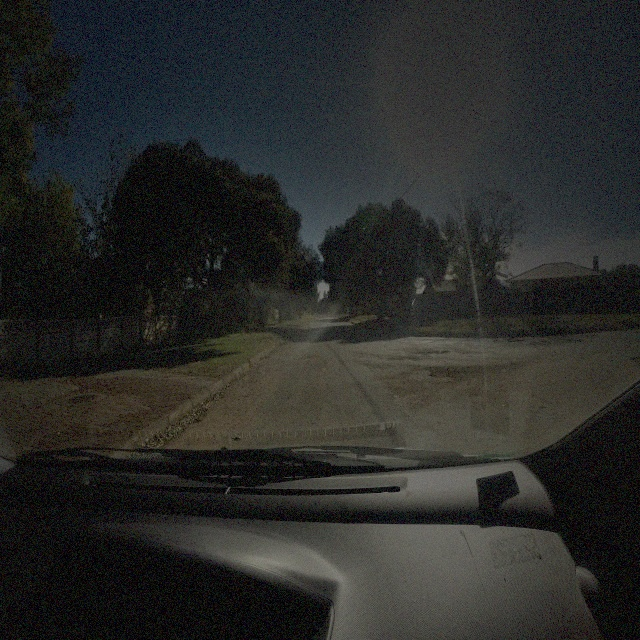pothole: (428, 367, 458, 379), (420, 348, 450, 354), (629, 356, 639, 362)
